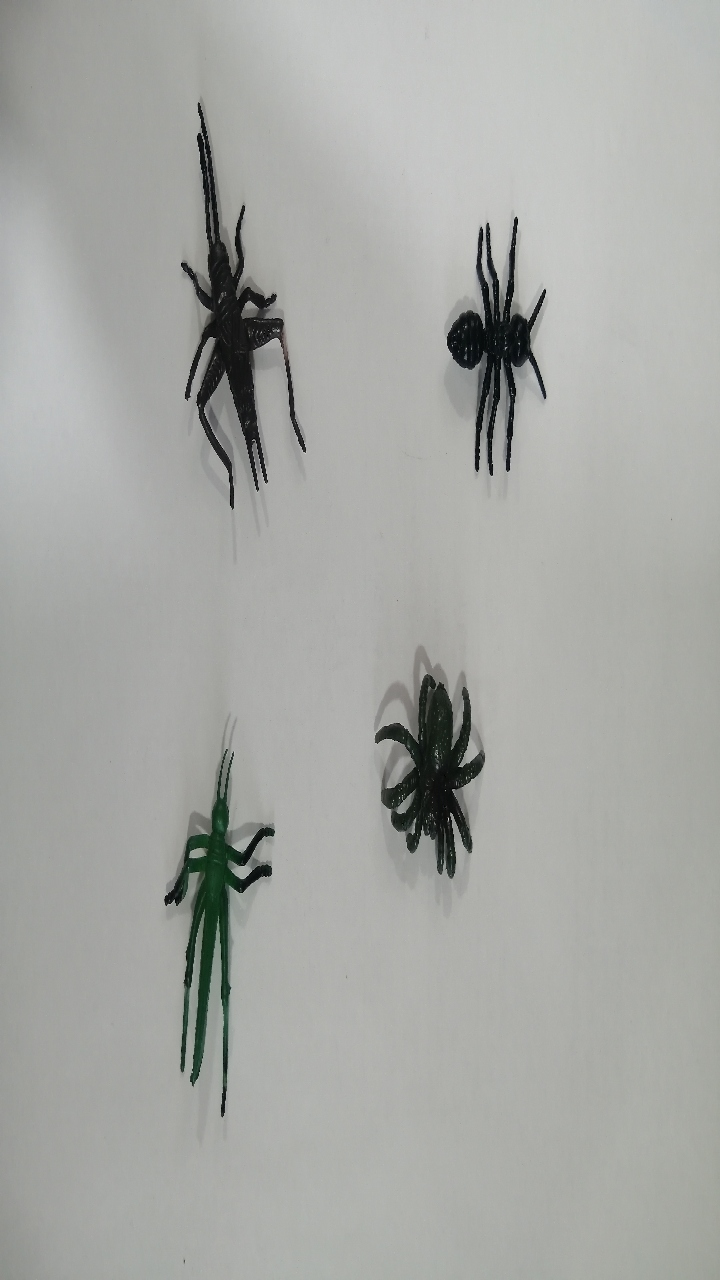intruso: (137, 94, 320, 520), (151, 728, 291, 1152), (340, 652, 524, 895), (418, 203, 563, 480)
